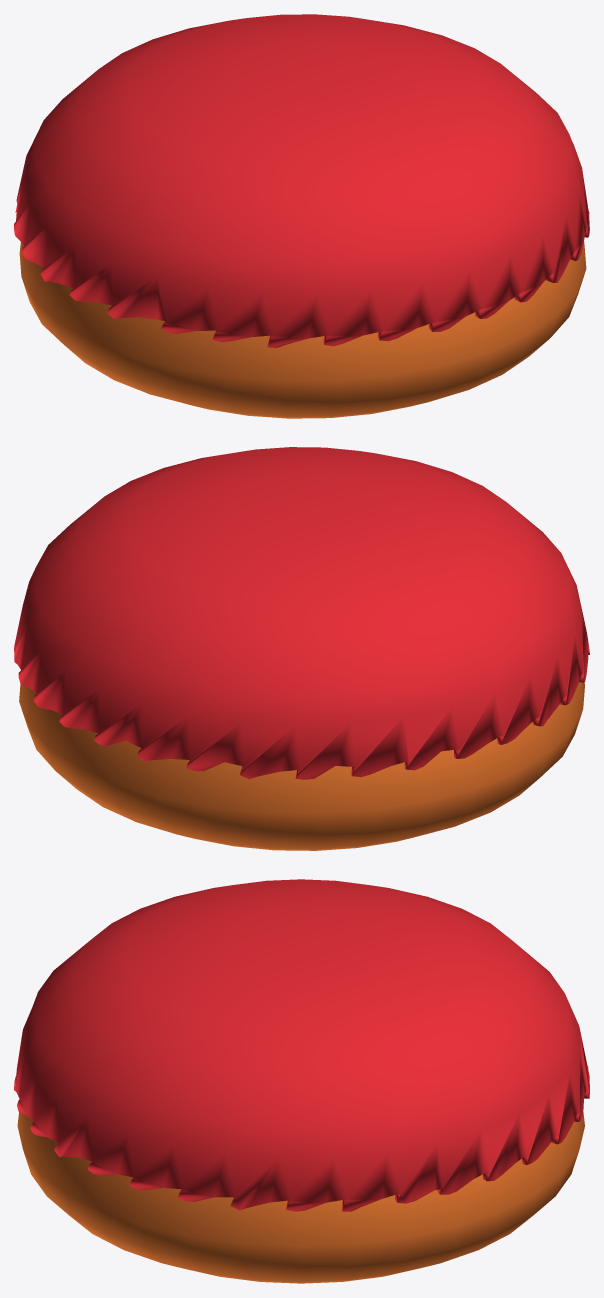
The model's file is raspberry_frosted.fbx.
The picture shows the model from 3 angles, top to bottom: view 1: azimuth 30°, elevation 25°; view 2: azimuth 150°, elevation 25°; view 3: azimuth 270°, elevation 25°; orthographic projection.
Parts seen in each view (by area): view 1: raspberry frosted.002; view 2: raspberry frosted.002; view 3: raspberry frosted.002.
Part boxes in pixels (bbox=[...]): raspberry frosted.002: bbox=[14, 14, 589, 418]; raspberry frosted.002: bbox=[14, 447, 589, 850]; raspberry frosted.002: bbox=[14, 879, 589, 1283].
Size of the model in its own units: 212 by 111 by 212.
